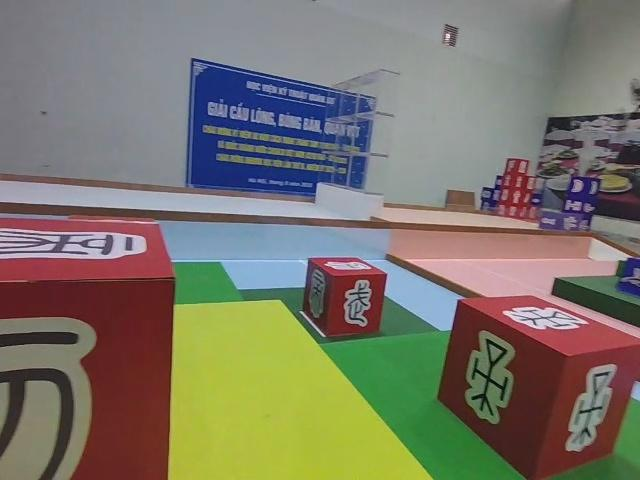R2 Fake: (0, 212, 178, 480), (301, 255, 388, 338)
R2 Real: (436, 293, 640, 480)
